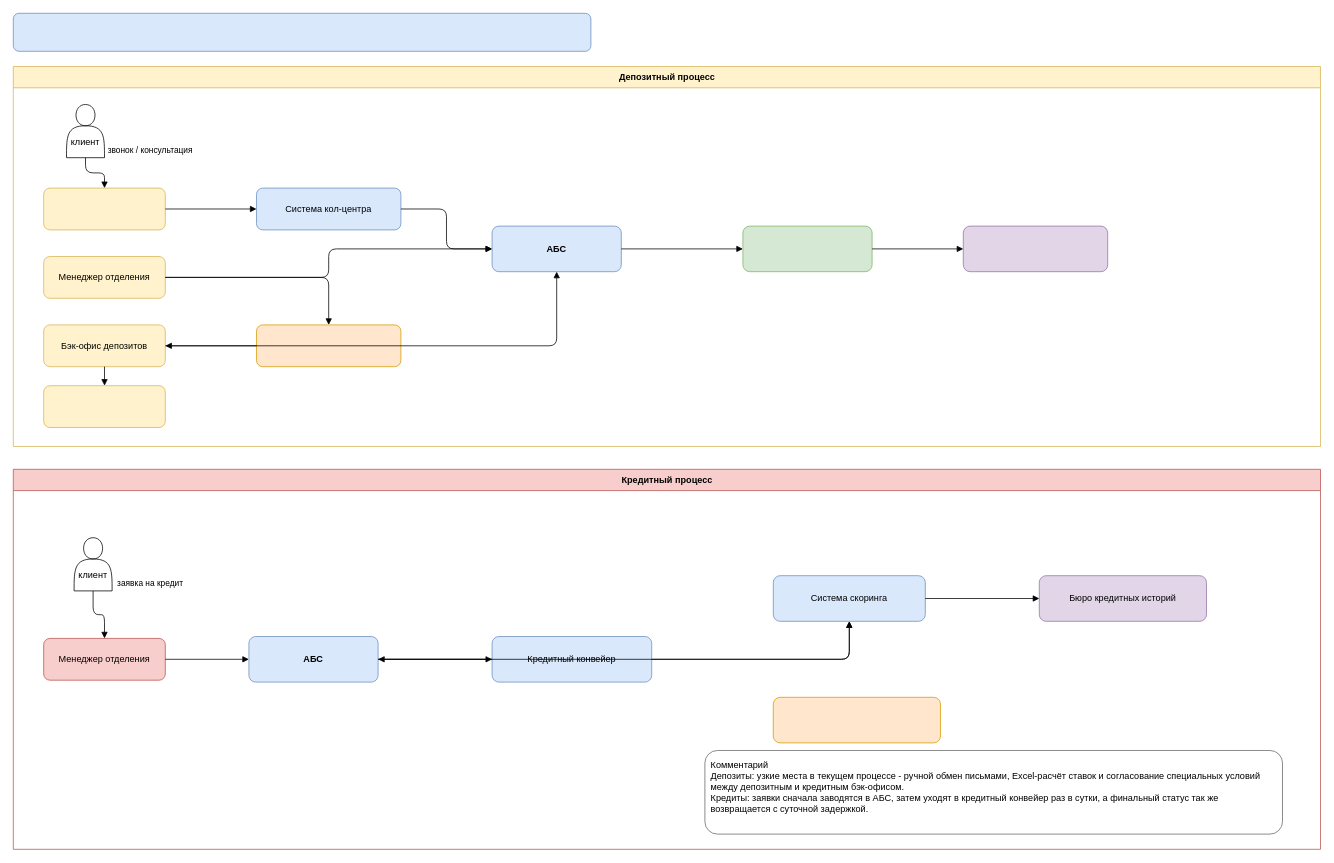
Some shapes in this 1334 by 863 pixel diagram are drawn without their labels. The shapes that lost their labels are listed below. From the top down, each one's centre as x and y in pixels, then its label:
At point (302, 32): "Схема интеграции приложений и участников процессов".
At point (104, 208): "Оператор кол-центра".
At point (807, 248): "SMS-шлюз".
At point (1035, 248): "Телеком-оператор".
At point (328, 345): "Почта / Excel".
At point (104, 406): "Бэк-офис кредитов".
At point (856, 720): "Данные клиента и платежей из АБС".
